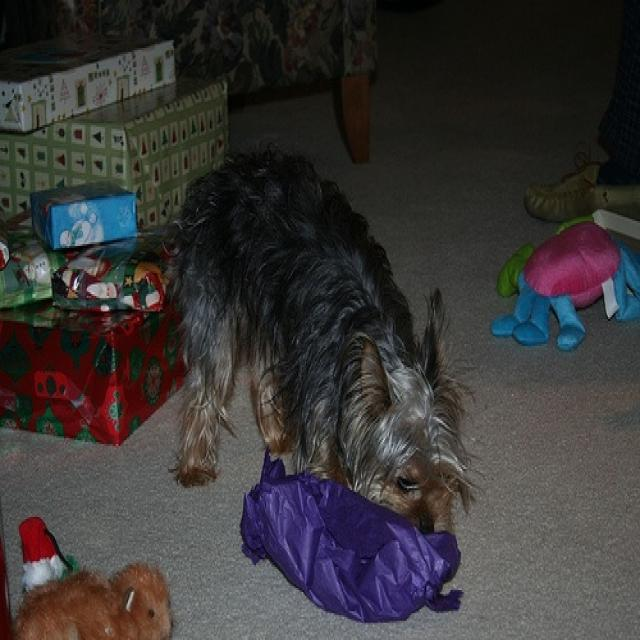chair: (0, 0, 376, 161)
dog: (172, 140, 485, 546)
